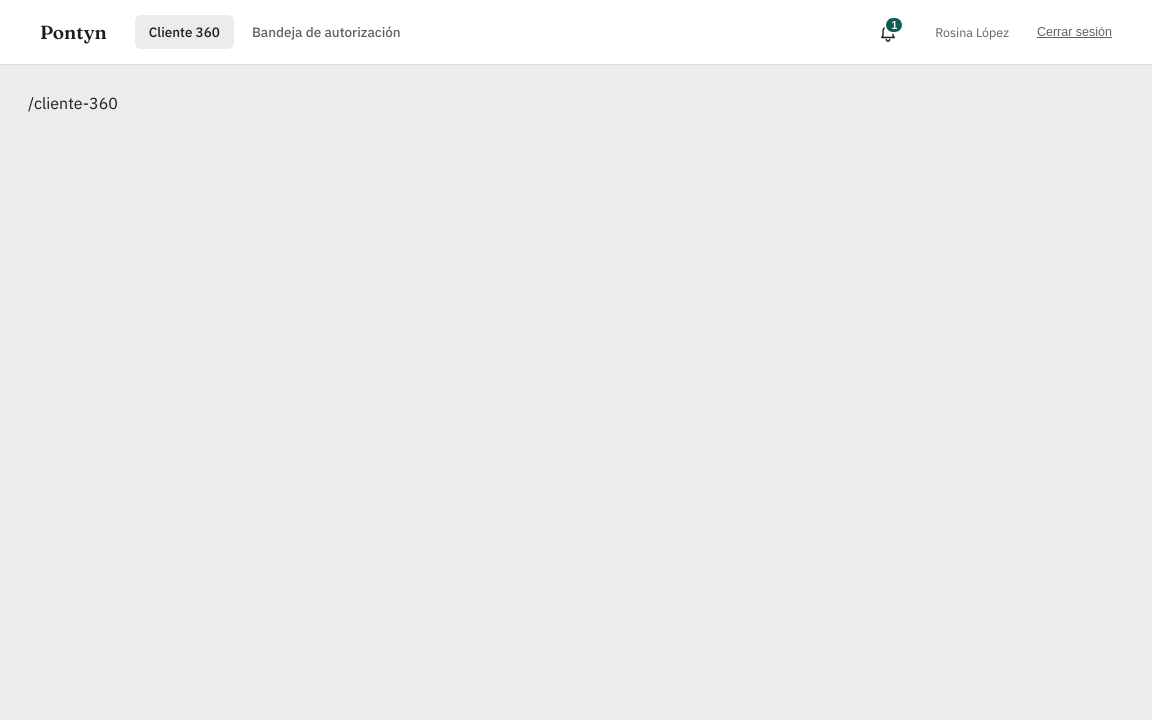
Scenario: AppShell — campana de alertas › abre el panel, muestra la lista y se cierra con Esc
Click the button named "Alertas: 1 nueva".
click(888, 32)  # box [869,13,907,51]
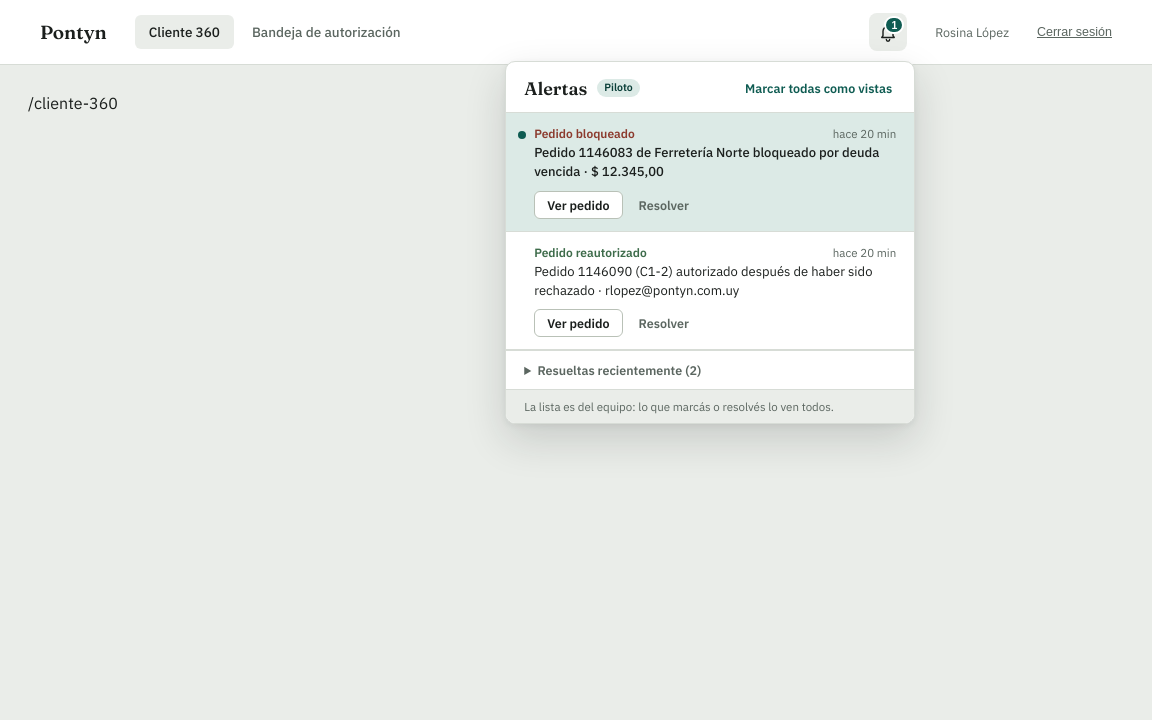
Expected: the dialog "Alertas" shows "Piloto", [604,80,633,94]
Expected: the dialog "Alertas" shows "Pedido bloqueado", [534,126,635,141]
Expected: the dialog "Alertas" shows "Pedido reautorizado", [534,245,647,260]
Press Escape
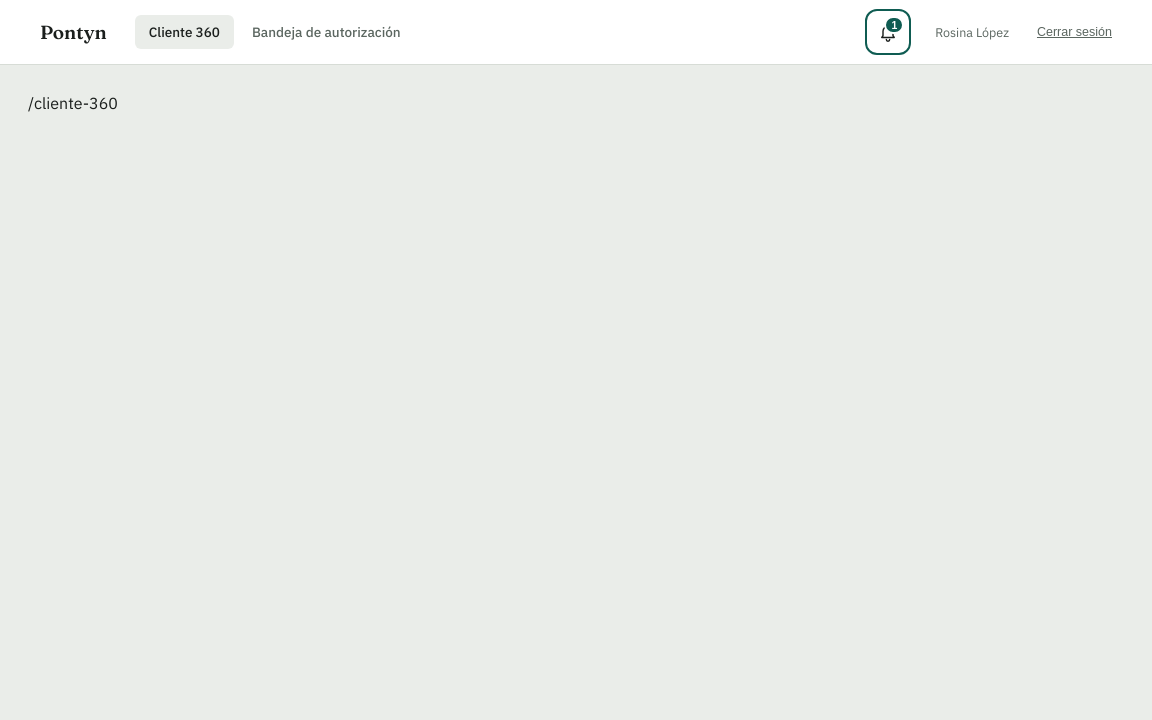
Expected: the dialog is gone
